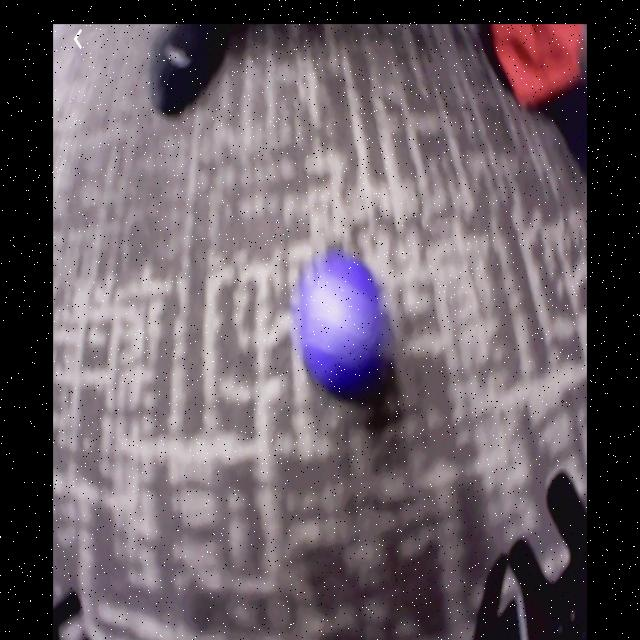ball: (305, 261, 383, 397)
